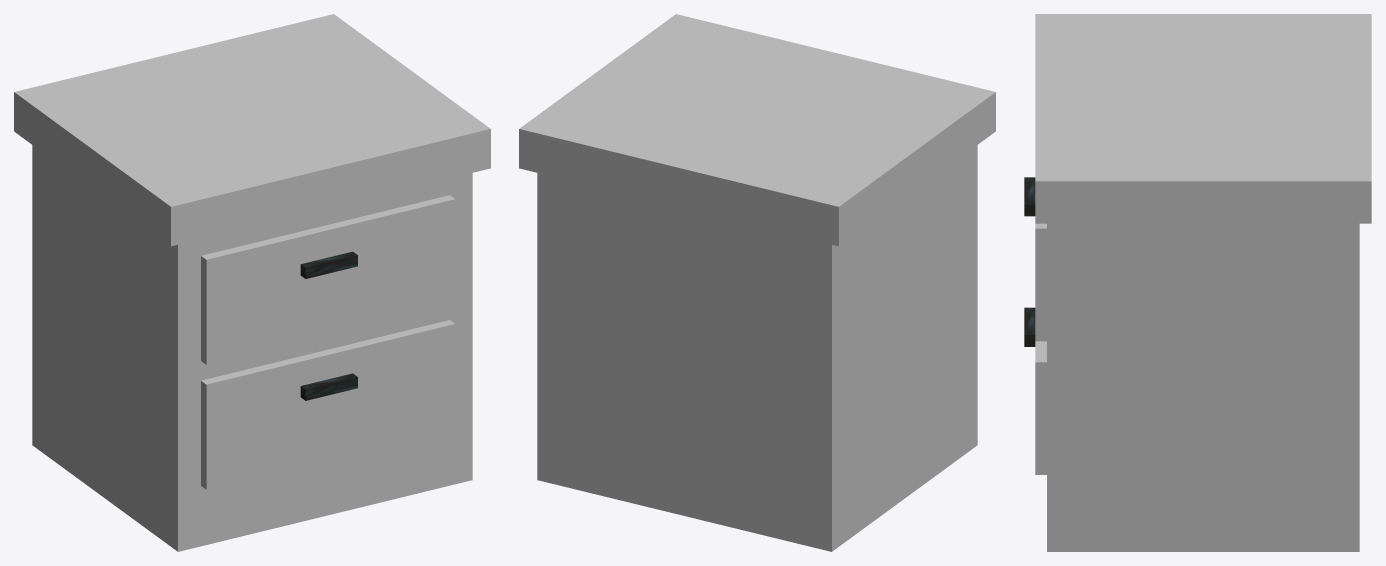
File: table_bedside.fbx
The picture shows the model from 3 angles, left to right: view 1: azimuth 30°, elevation 25°; view 2: azimuth 150°, elevation 25°; view 3: azimuth 270°, elevation 25°; orthographic projection. The views are drawn at different scales.
Parts seen in each view (by area): view 1: table_bedside; view 2: table_bedside; view 3: table_bedside.
Part boxes in pixels (x1,y1,x2,y2): table_bedside: (14, 14, 490, 551); table_bedside: (519, 14, 995, 551); table_bedside: (1024, 14, 1371, 551).
Size of the model in its own units: 227 by 239 by 199.
